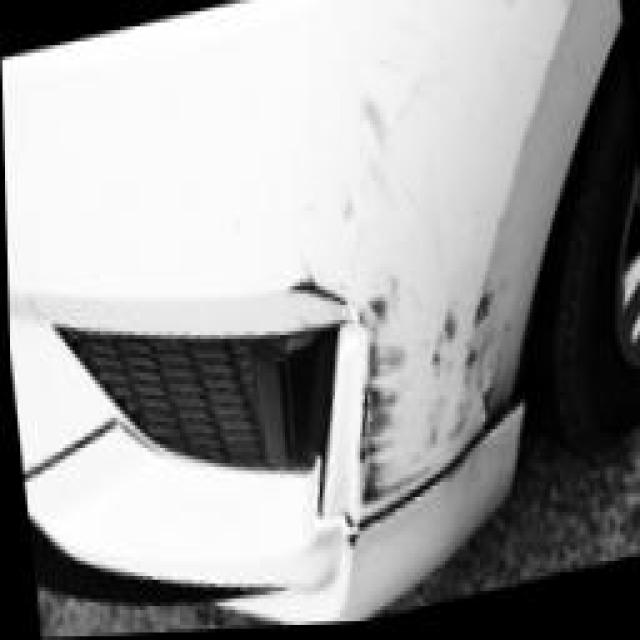Bumper: (252, 28, 564, 626)
